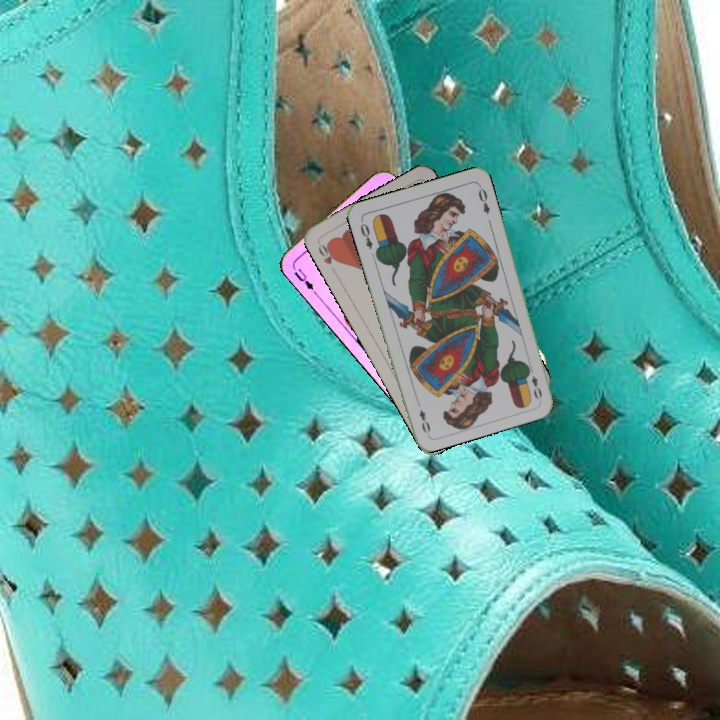EO: (524, 363, 544, 402), (356, 216, 375, 252)
EU: (290, 264, 316, 293)
HO: (314, 239, 341, 267)
